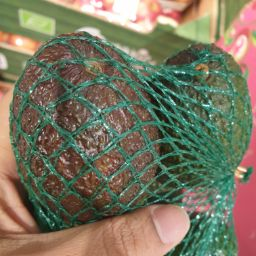Avocado: (9, 31, 170, 219), (144, 37, 256, 206)
